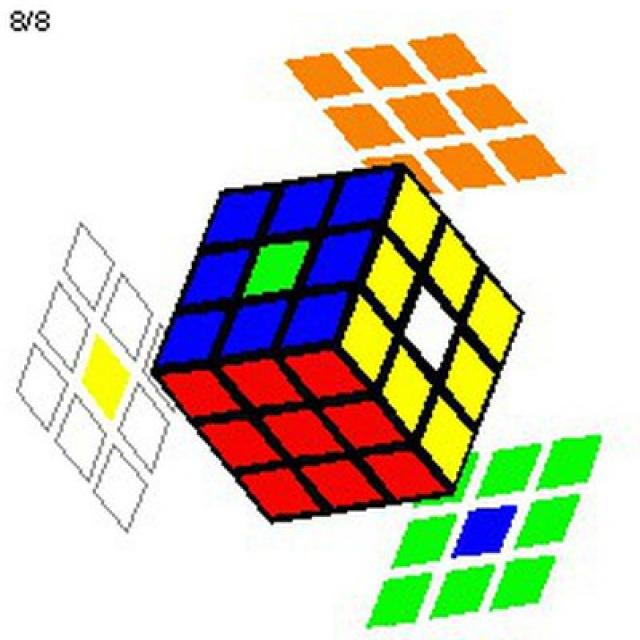cube: (150, 170, 531, 527)
